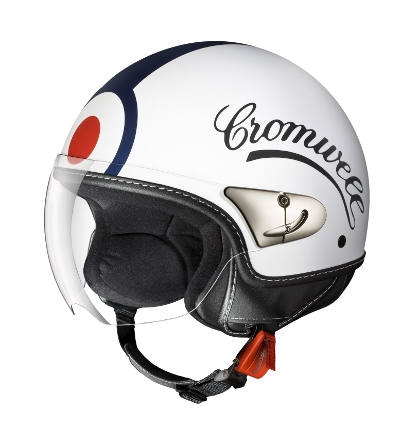helmet: (59, 46, 368, 316)
